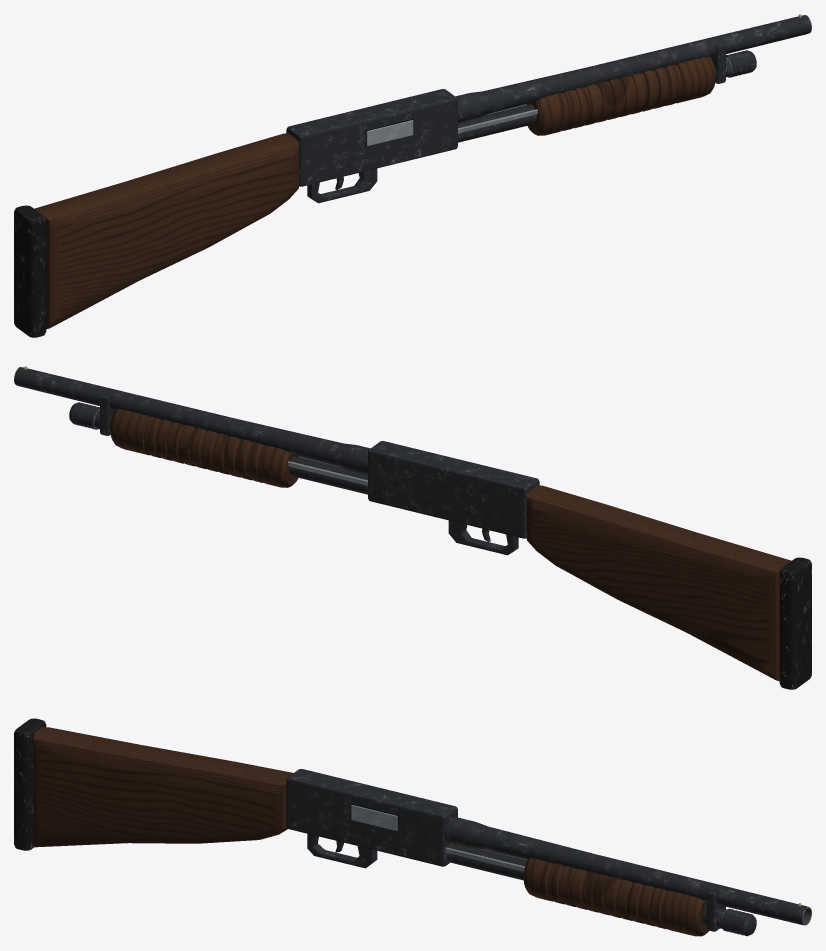
Rendered from shotgun_pump.glb.
3 views of the same model, one above another, from view 1: azimuth 30°, elevation 25°; view 2: azimuth 150°, elevation 25°; view 3: azimuth 330°, elevation 25° (orthographic).
Visible parts, largest first — view 1: shotgun_pump, shotgun_pump_pump, shotgun_pump_bolt; view 2: shotgun_pump, shotgun_pump_pump; view 3: shotgun_pump, shotgun_pump_pump, shotgun_pump_bolt.
Part boxes in pixels (<box>): shotgun_pump: <box>14,14,811,337</box>; shotgun_pump_pump: <box>458,57,715,135</box>; shotgun_pump_bolt: <box>366,120,413,146</box>; shotgun_pump: <box>14,366,811,689</box>; shotgun_pump_pump: <box>110,409,367,487</box>; shotgun_pump: <box>14,718,811,936</box>; shotgun_pump_pump: <box>445,847,708,936</box>; shotgun_pump_bolt: <box>351,805,397,830</box>.
Size of the model in its own units: 0.9845 by 0.1625 by 0.045.
3 materials, 3 textured.
